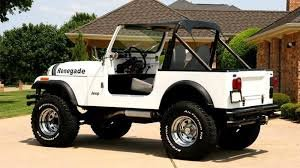mobil: (35, 20, 280, 159)
